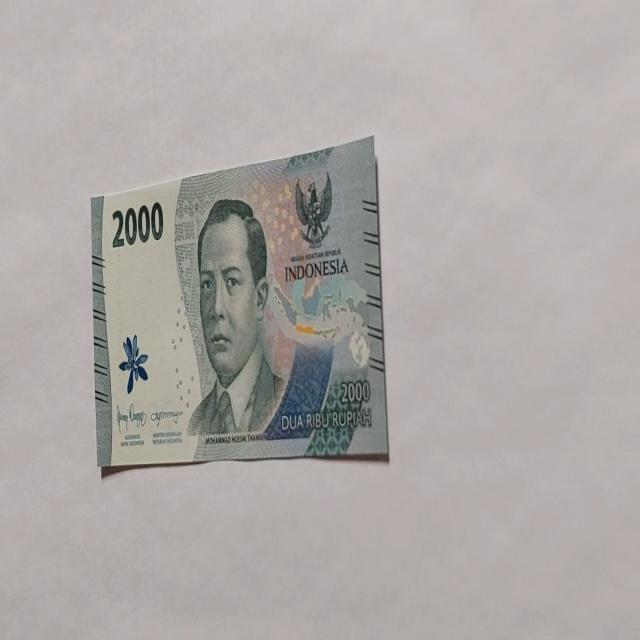dua ribu rupiah: (90, 134, 388, 471), (186, 196, 286, 438)
